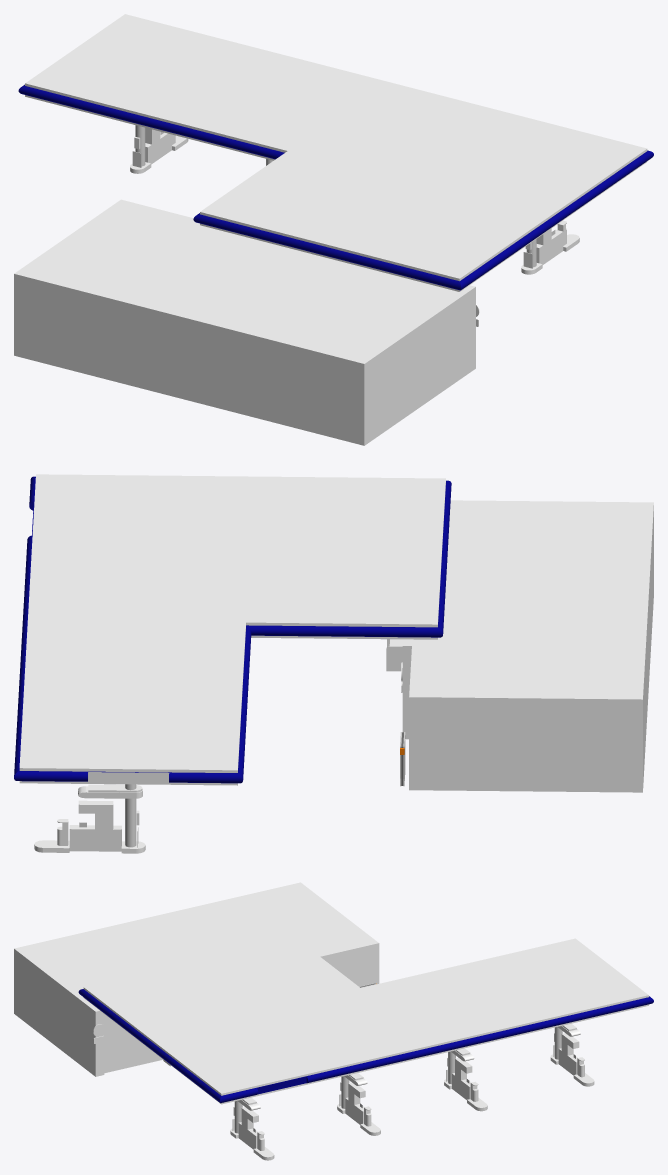
Rendered from gas station.fbx.
The picture shows the model from 3 angles, top to bottom: view 1: azimuth 30°, elevation 25°; view 2: azimuth 150°, elevation 25°; view 3: azimuth 270°, elevation 25°; orthographic projection. The views are drawn at different scales.
Parts seen in each view (by area): view 1: Group_001, Central building_001, kolonka_007, kolonka_001; view 2: Group_001, Central building_001, kolonka_001, kolonna_001; view 3: Group_001, Central building_001, kolonka_007, kolonka_005, kolonka_001, kolonka_003.
Part boxes in pixels (x1,y1,x2,y2): Group_001: (18, 14, 653, 291); Central building_001: (14, 199, 479, 445); kolonka_007: (521, 221, 579, 274); kolonka_001: (130, 128, 188, 173); Group_001: (14, 474, 451, 797); Central building_001: (401, 500, 653, 792); kolonka_001: (34, 784, 145, 853); kolonna_001: (125, 784, 136, 847); Group_001: (78, 938, 653, 1109); Central building_001: (14, 882, 379, 1076); kolonka_007: (230, 1097, 274, 1160); kolonka_005: (337, 1073, 380, 1135); kolonka_001: (550, 1023, 594, 1086); kolonka_003: (444, 1048, 487, 1111).
Bounding box in the file's own units: 33476 × 5601 × 39553.
